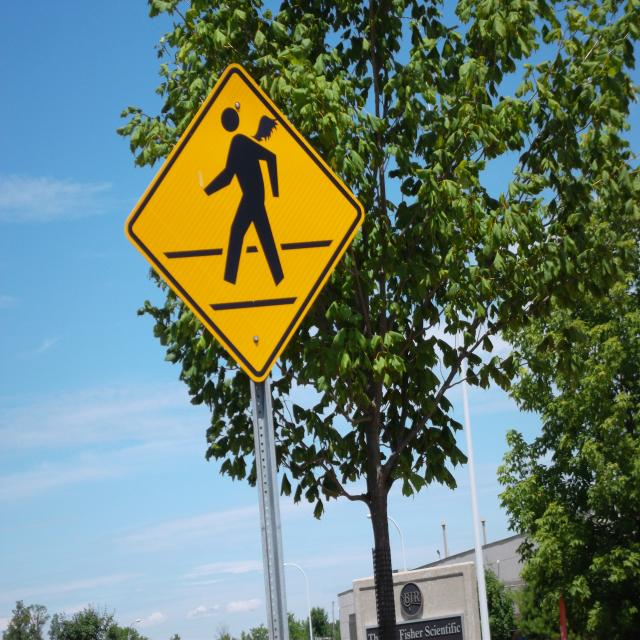warning: (123, 61, 368, 382)
